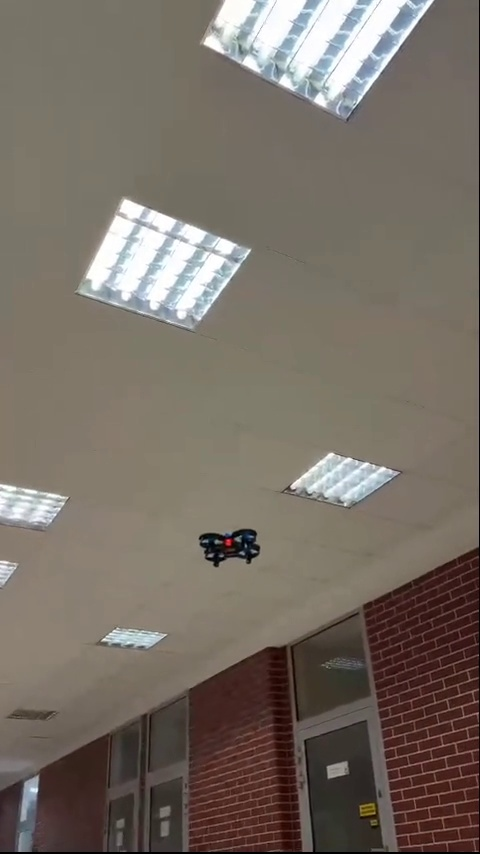drone: (194, 530, 260, 566)
